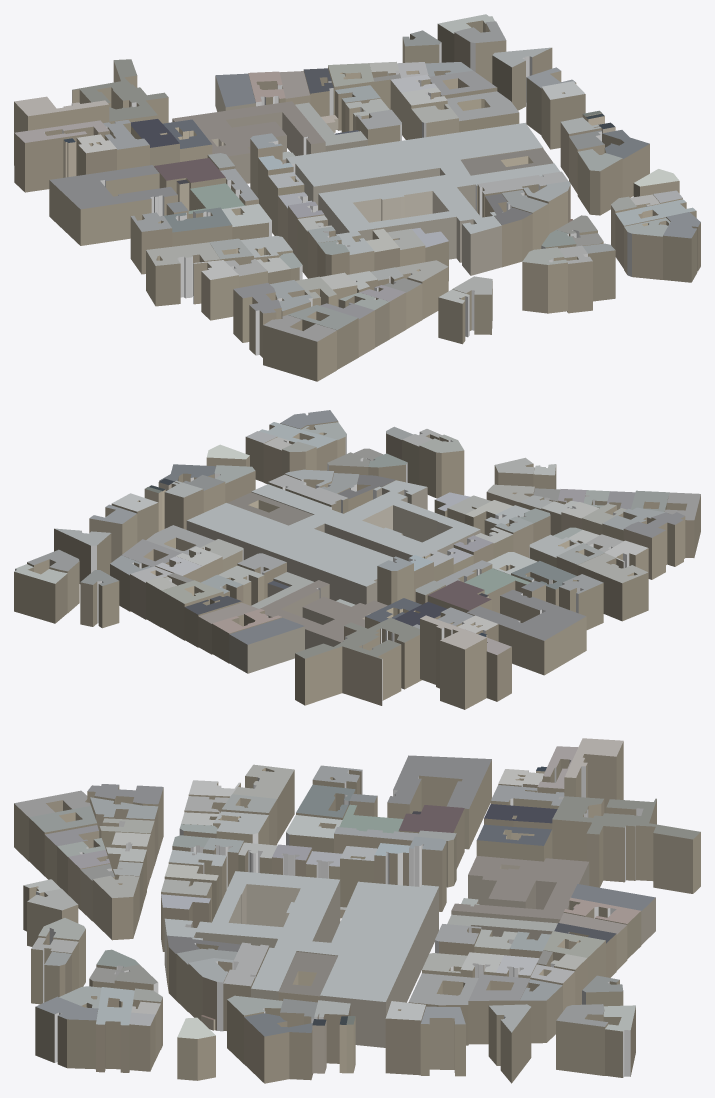
The picture shows the model from 3 angles, top to bottom: view 1: azimuth 30°, elevation 25°; view 2: azimuth 150°, elevation 25°; view 3: azimuth 270°, elevation 25°; orthographic projection. The views are drawn at different scales.
Visible parts, largest first — view 1: tuile; view 2: tuile; view 3: tuile.
Part boxes in pixels (box(x1,y1,x2,y2)): tuile: box(14, 14, 700, 381); tuile: box(14, 410, 700, 709); tuile: box(14, 738, 700, 1083).
Size of the model in its own units: 283 by 45.72 by 295.
